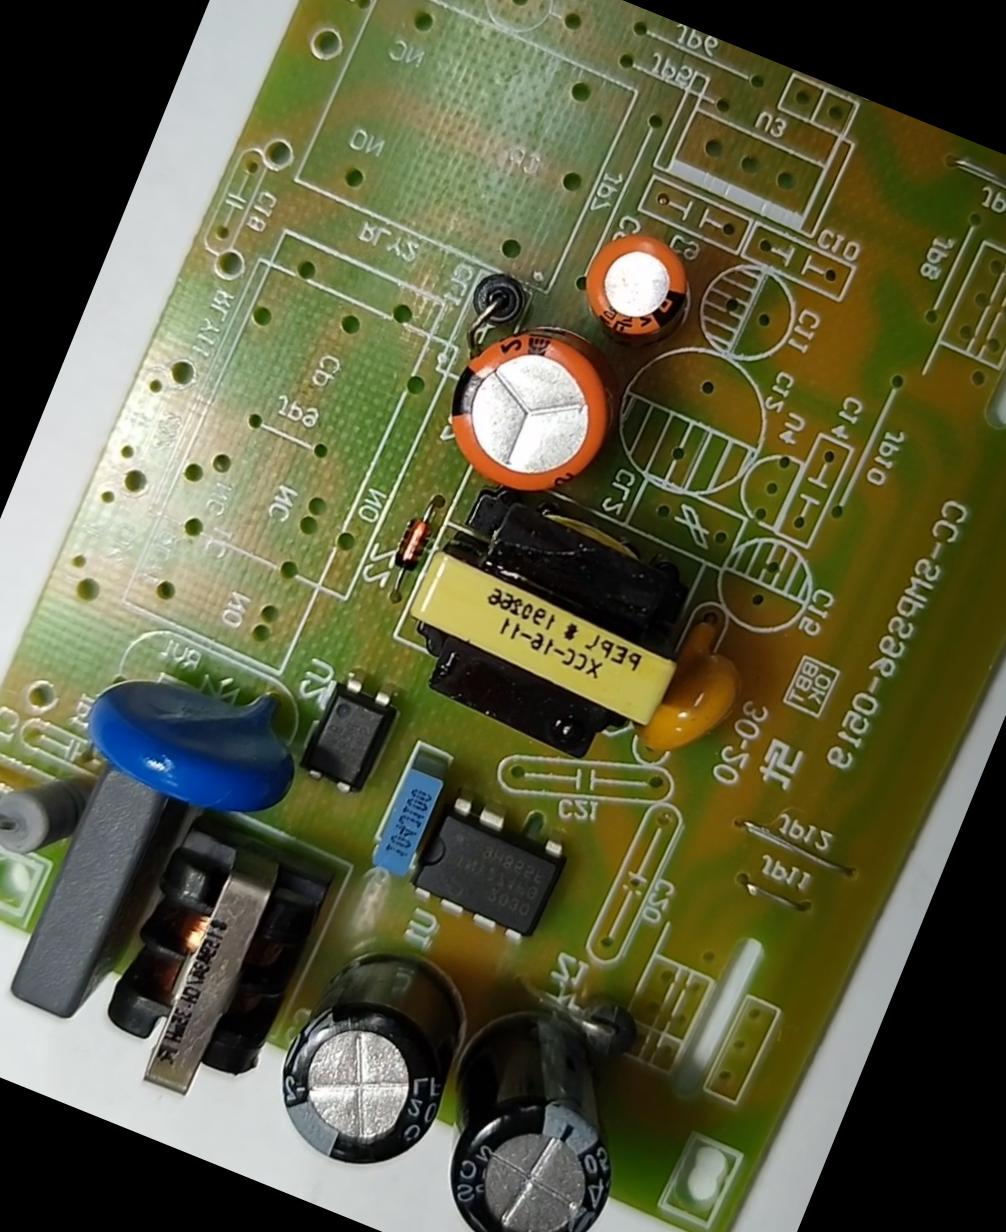Cap1: (427, 297, 637, 516)
Cap2: (569, 215, 706, 352)
Cap3: (256, 925, 488, 1188)
Cap4: (400, 989, 664, 1231)
MOSFET: (407, 794, 569, 948)
Mov: (70, 629, 322, 839)
Resistor: (0, 745, 99, 876)
Transformer: (381, 470, 714, 782), (84, 804, 340, 1120)
